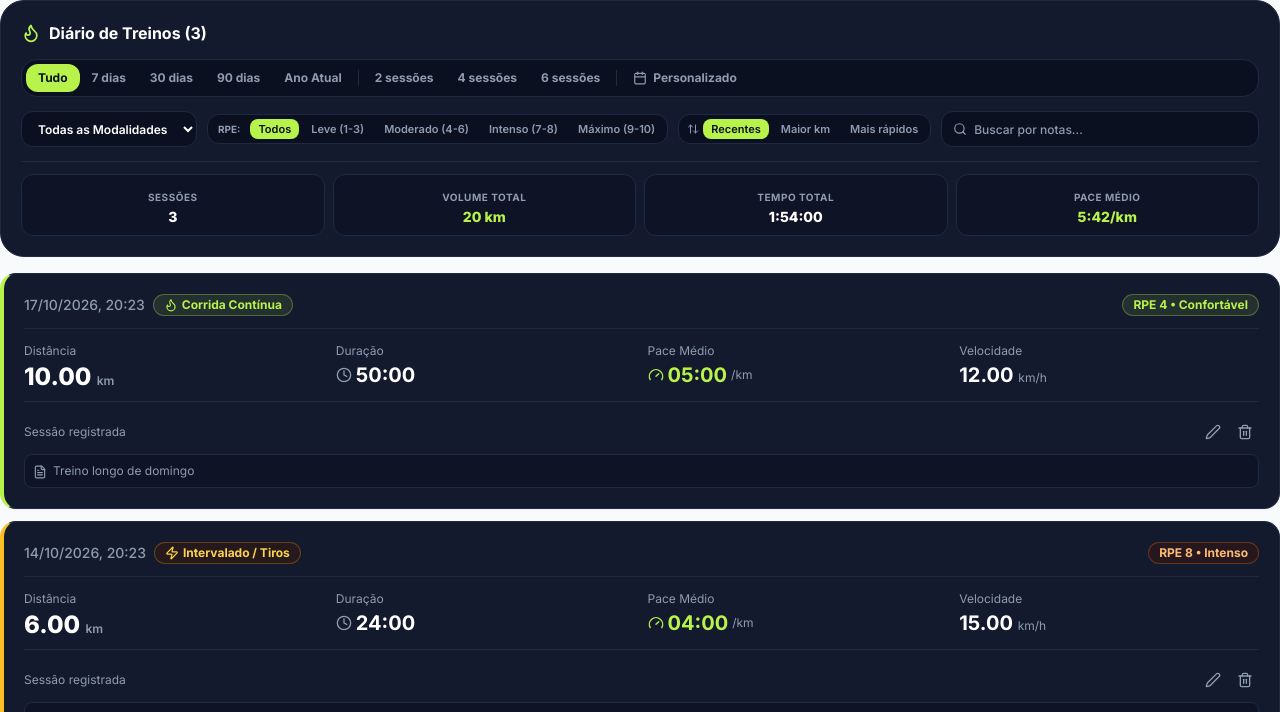
Test case: TrainingList Component - Filtros Avançados › permite filtrar a lista pelas últimas 2 sessões mais recentes
Expected: the heading "Diário de Treinos (3)" is shown, [49,21,207,45]
Expected: the text "20 km" is shown, [463,208,506,225]
// Clica no filtro de 2 sessões
Click the button "2 sessões": (404, 78) [363,64,446,92]
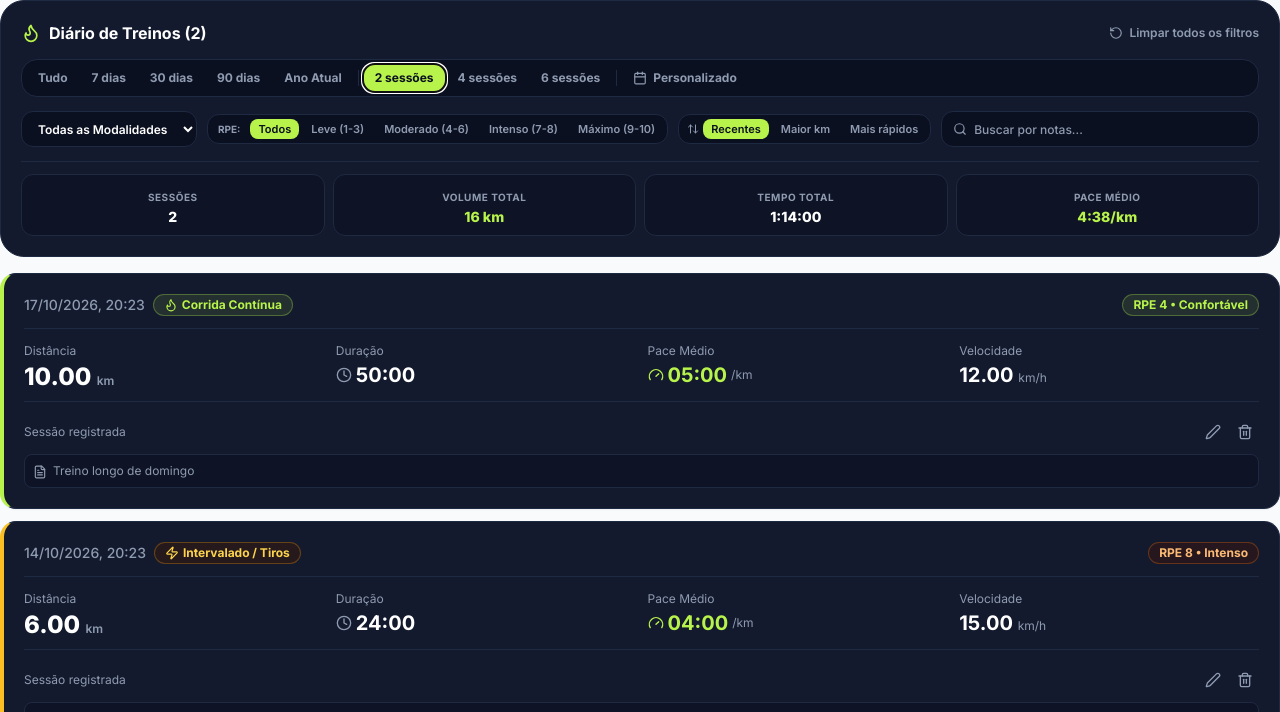
Expected: the text "10.00" is shown, [24,362,91,391]
Now the heading "Diário de Treinos (2)" is shown, box [49,21,206,45]
Now the text "16 km" is shown, box [464,208,504,225]
